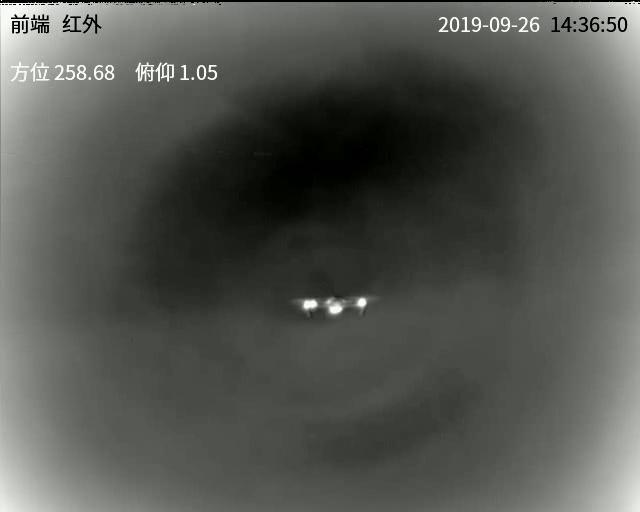DRONE: (301, 296, 369, 320)
